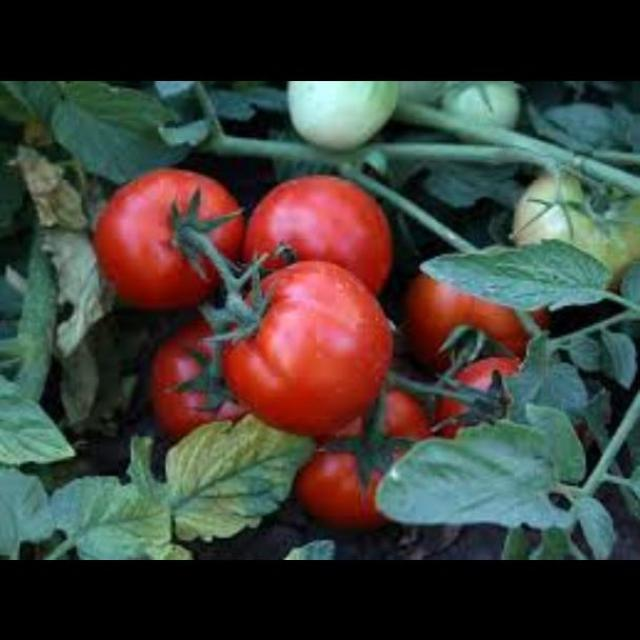Tomato: (224, 254, 403, 436), (96, 154, 247, 304), (297, 386, 440, 526), (239, 171, 393, 288), (510, 160, 640, 296), (138, 306, 264, 429), (397, 264, 527, 368), (385, 80, 531, 142), (430, 344, 530, 432), (282, 80, 394, 152)
